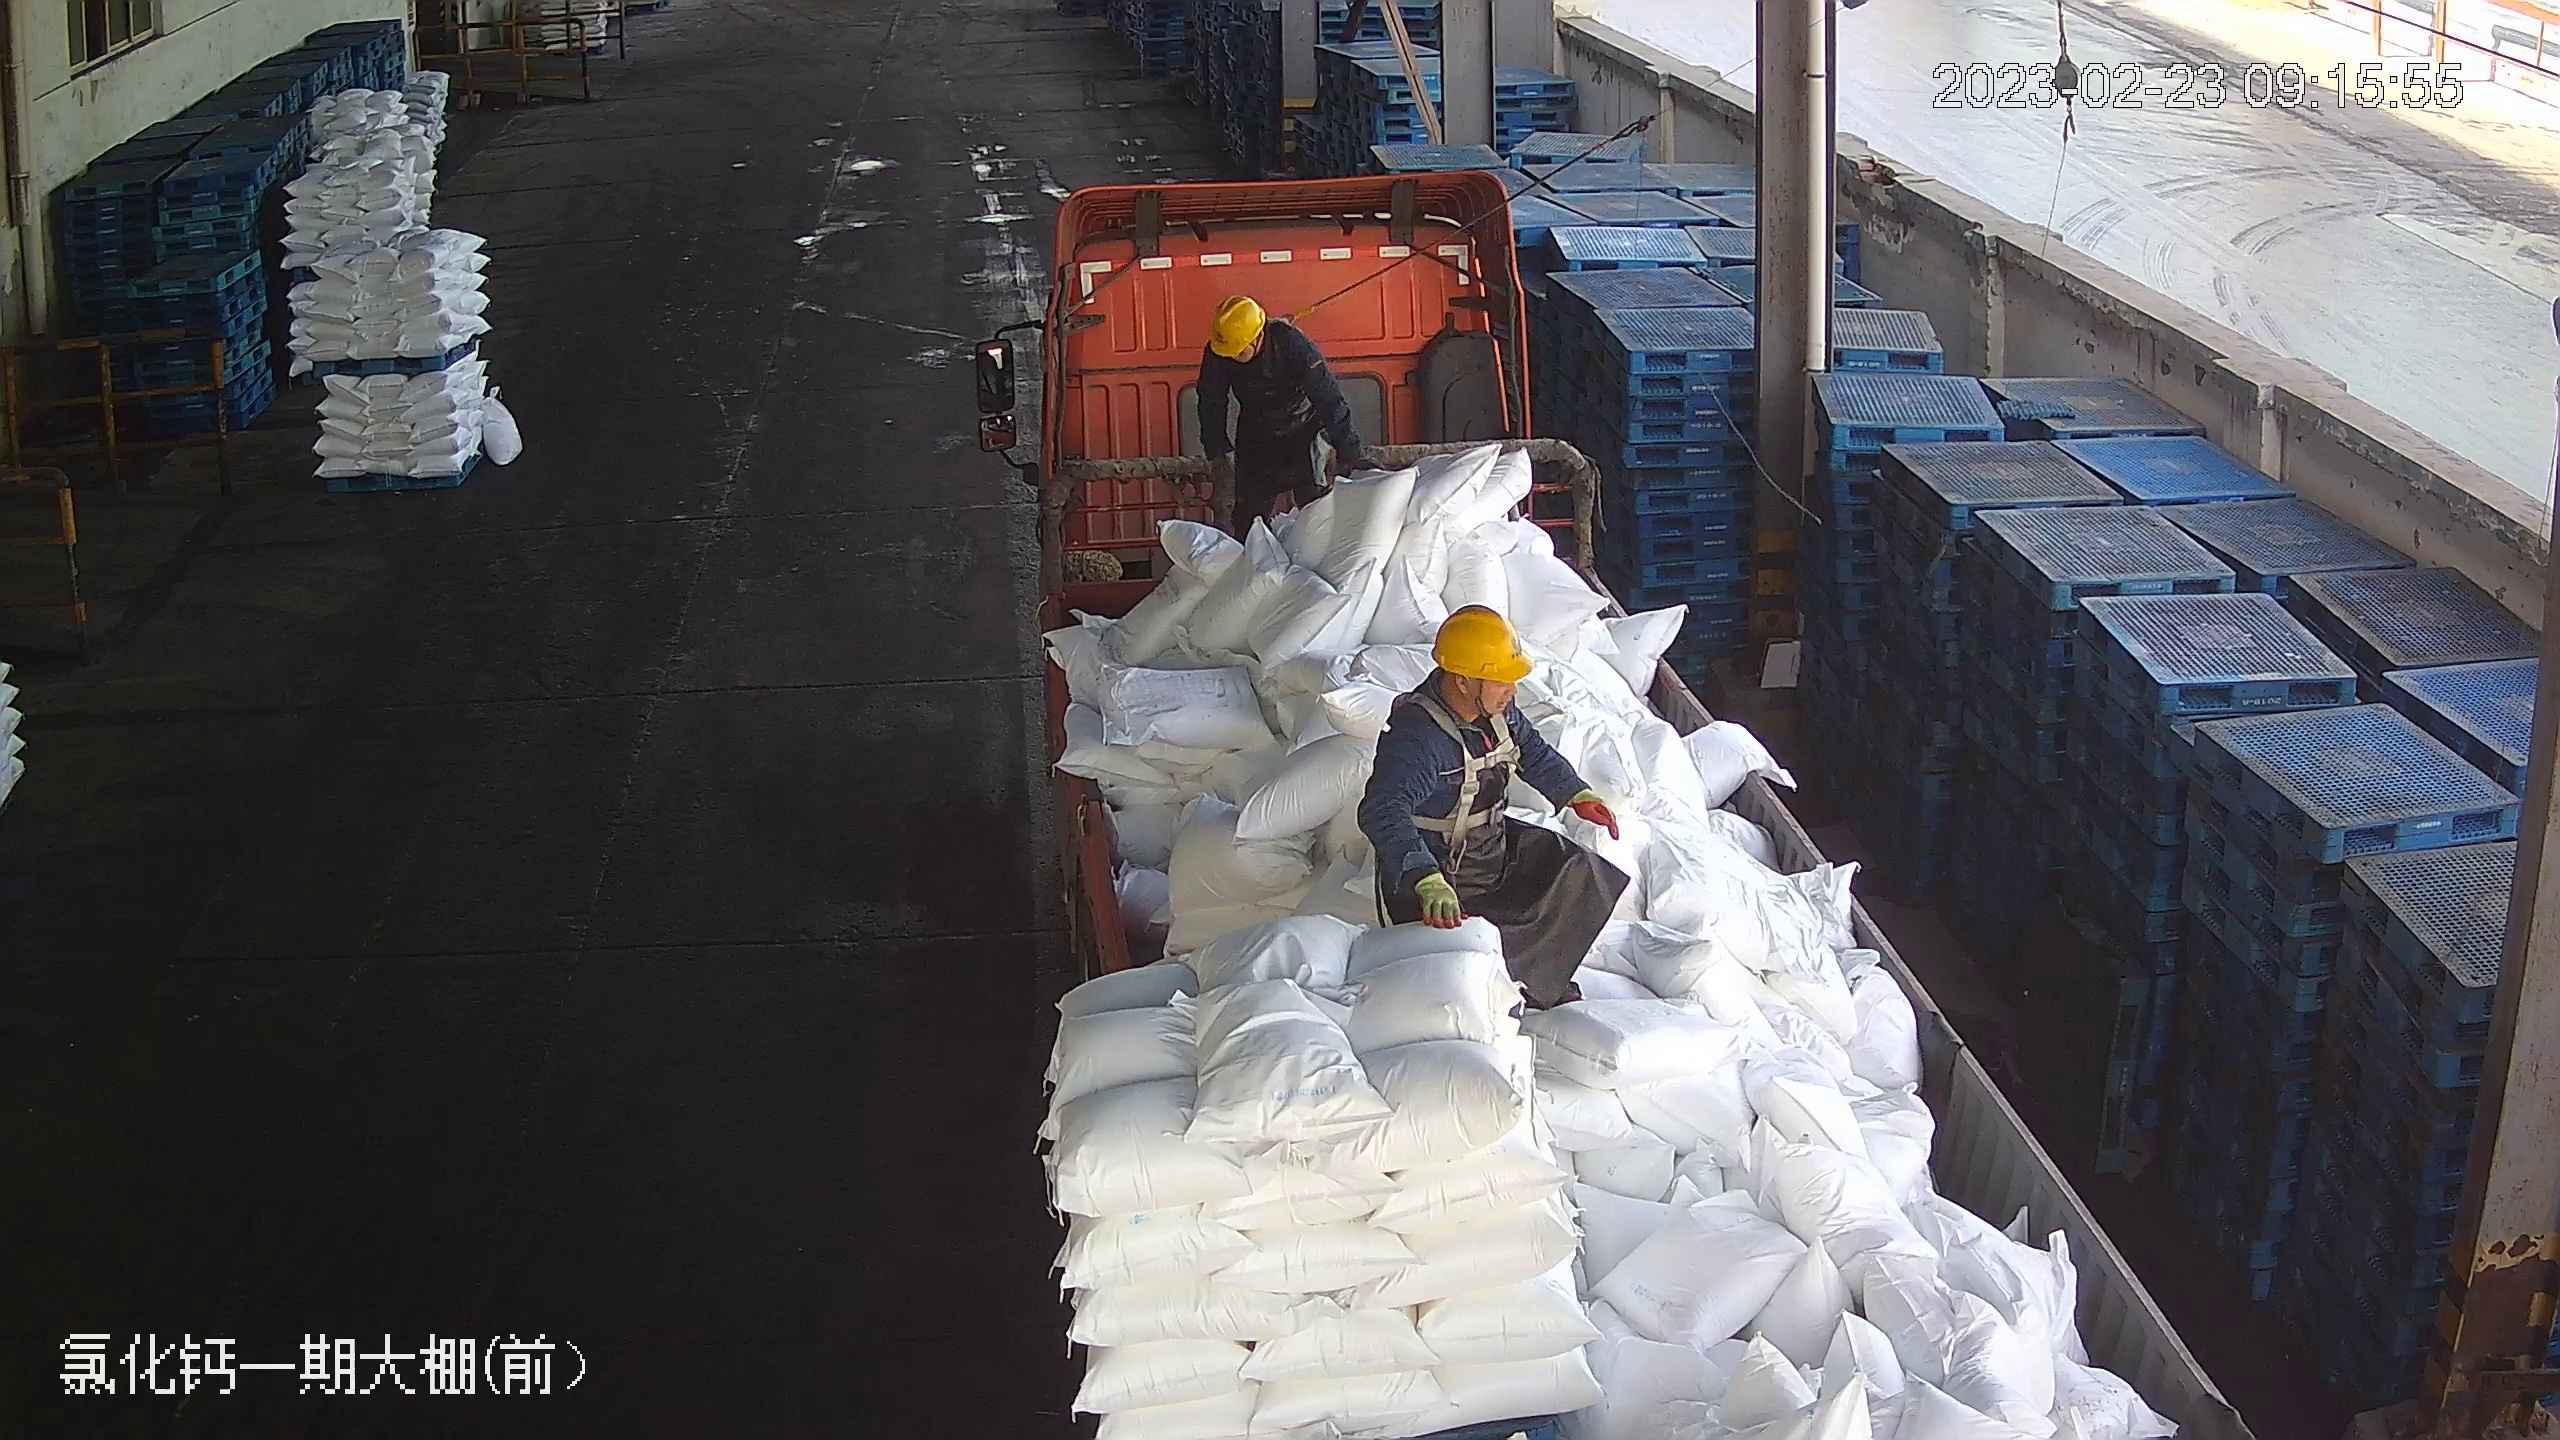belt: (1390, 692, 1530, 844), (1261, 302, 1333, 336)
head: (1381, 604, 1546, 790), (1198, 294, 1320, 388)
helmet: (1430, 605, 1533, 681), (1208, 294, 1264, 358)
people: (1362, 602, 1631, 1039), (1186, 293, 1375, 544)
truck: (975, 155, 2265, 1440)
